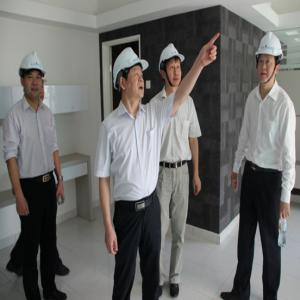white: (114, 46, 146, 99), (255, 33, 284, 84), (17, 53, 46, 100), (160, 46, 183, 86)
